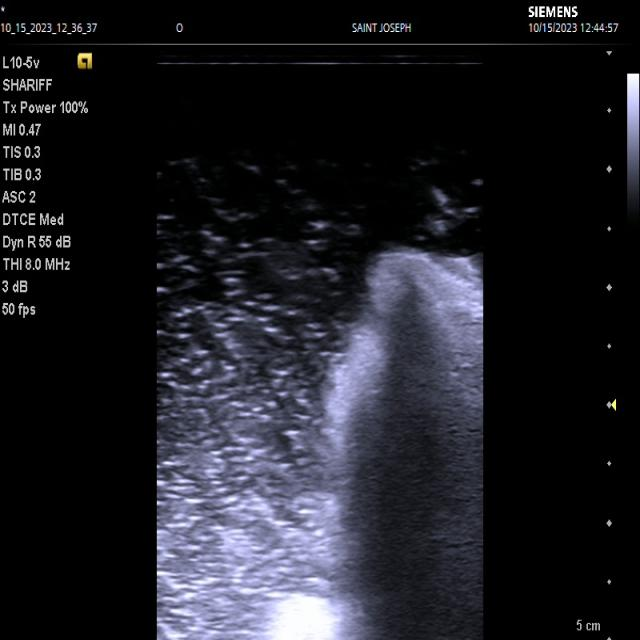tissue: (266, 251, 486, 640)
